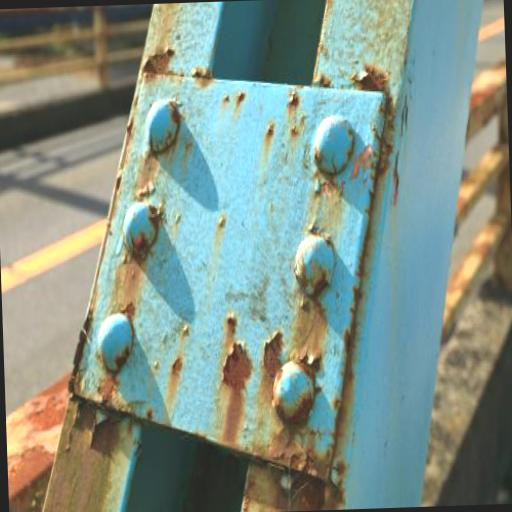segmentation: (44, 399, 134, 512), (6, 375, 68, 512), (243, 441, 342, 511), (314, 117, 369, 235), (351, 64, 394, 170), (242, 462, 322, 511), (222, 338, 252, 440), (290, 299, 326, 363), (71, 309, 90, 391), (276, 428, 316, 466), (351, 63, 389, 92), (264, 332, 281, 395), (144, 50, 182, 75)
